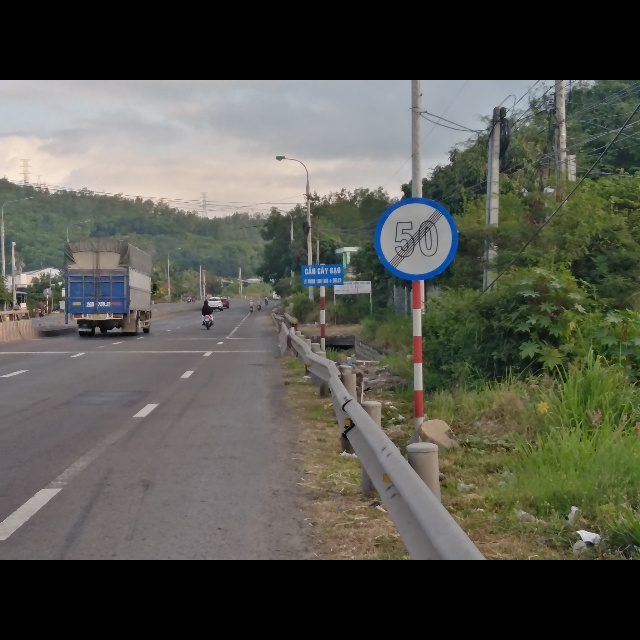Hết hạn chế tốc độ tối đa 50km/h: (373, 195, 460, 284)
